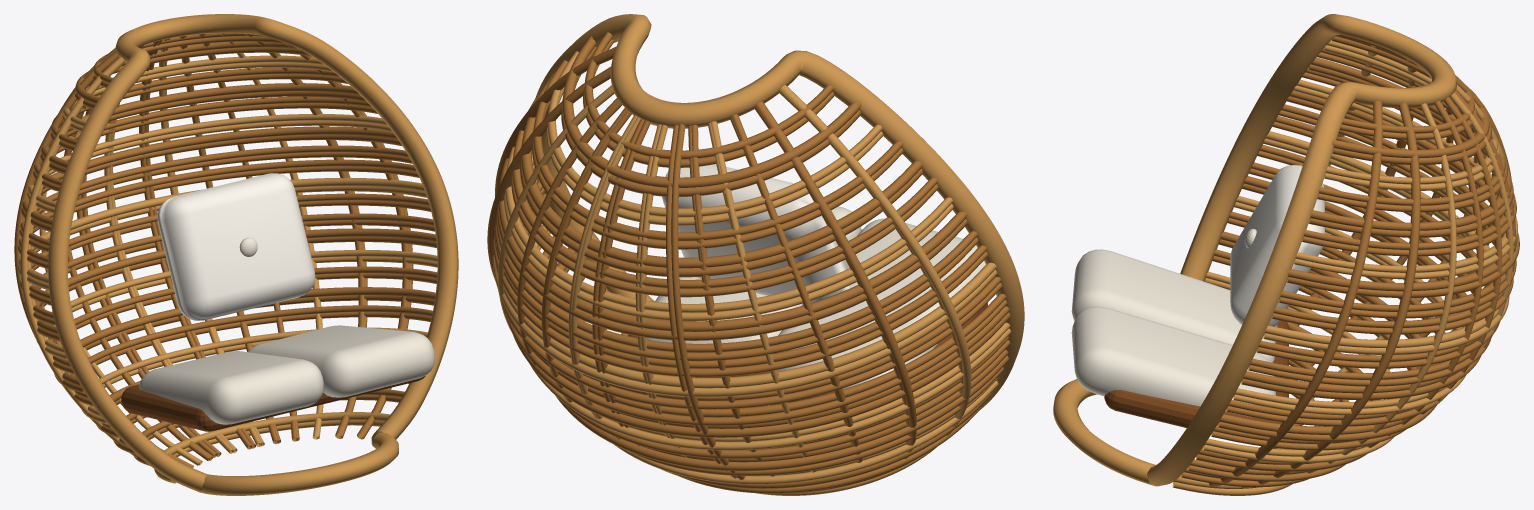
Rendered from eggchair.glb.
3 renders of one model, left to right at view 1: azimuth 30°, elevation 25°; view 2: azimuth 150°, elevation 25°; view 3: azimuth 270°, elevation 25°, orthographic. The views are drawn at different scales.
Parts seen in each view (by area): view 1: EggChair_OpeningRim, EggChair_BackPillow, EggChair_SeatLeft, EggChair_SeatRight, EggChair_Weft_15, EggChair_SeatBasket, EggChair_Weft_13, EggChair_Weft_14, EggChair_Weft_05, EggChair_Warp_12_Fine, EggChair_Weft_18, EggChair_Weft_12 (+53 smaller); view 2: EggChair_OpeningRim, EggChair_BackPillow, EggChair_Weft_15, EggChair_Weft_18, EggChair_Weft_12, EggChair_Weft_12_Fine, EggChair_Weft_21, EggChair_Weft_09_Fine, EggChair_Weft_15_Fine, EggChair_Weft_10_Fine, EggChair_Weft_17, EggChair_Weft_13_Fine (+59 smaller); view 3: EggChair_OpeningRim, EggChair_SeatRight, EggChair_SeatLeft, EggChair_BackPillow, EggChair_Warp_13_Fine, EggChair_Warp_11_Fine, EggChair_Weft_12, EggChair_Weft_15, EggChair_SeatBasket, EggChair_Weft_18, EggChair_Weft_12_Fine, EggChair_Weft_14 (+46 smaller).
Part boxes in pixels (<box>): EggChair_OpeningRim: <box>48,14,458,495</box>; EggChair_BackPillow: <box>157,173,315,320</box>; EggChair_SeatLeft: <box>139,351,323,424</box>; EggChair_SeatRight: <box>248,325,434,397</box>; EggChair_Weft_15: <box>22,126,397,226</box>; EggChair_SeatBasket: <box>121,376,425,431</box>; EggChair_Weft_13: <box>18,159,416,263</box>; EggChair_Weft_14: <box>20,145,408,246</box>; EggChair_Weft_05: <box>70,305,432,399</box>; EggChair_Warp_12_Fine: <box>20,61,138,457</box>; EggChair_Weft_18: <box>41,83,360,168</box>; EggChair_Weft_12: <box>18,178,424,284</box>; EggChair_OpeningRim: <box>535,14,1024,410</box>; EggChair_BackPillow: <box>662,164,850,304</box>; EggChair_Weft_15: <box>498,158,967,331</box>; EggChair_Weft_18: <box>521,73,922,268</box>; EggChair_Weft_12: <box>494,154,996,388</box>; EggChair_Weft_12_Fine: <box>492,164,997,397</box>; EggChair_Weft_21: <box>562,35,861,187</box>; EggChair_Weft_09_Fine: <box>513,203,1010,437</box>; EggChair_Weft_15_Fine: <box>497,207,967,340</box>; EggChair_Weft_10_Fine: <box>509,188,1007,425</box>; EggChair_Weft_17: <box>512,83,937,288</box>; EggChair_Weft_13_Fine: <box>493,151,987,377</box>; EggChair_OpeningRim: <box>1053,14,1456,486</box>; EggChair_SeatRight: <box>1071,306,1275,417</box>; EggChair_SeatLeft: <box>1071,249,1277,362</box>; EggChair_BackPillow: <box>1230,165,1324,326</box>; EggChair_Warp_13_Fine: <box>1209,138,1382,487</box>; EggChair_Warp_11_Fine: <box>1241,107,1420,488</box>; EggChair_Weft_12: <box>1265,131,1498,347</box>; EggChair_Weft_15: <box>1287,90,1517,291</box>; EggChair_SeatBasket: <box>1104,320,1288,448</box>; EggChair_Weft_18: <box>1310,57,1511,230</box>; EggChair_Weft_12_Fine: <box>1263,138,1509,354</box>; EggChair_Weft_14: <box>1280,104,1506,311</box>.
Size of the model in its own units: 1.63 by 1.53 by 1.57.
